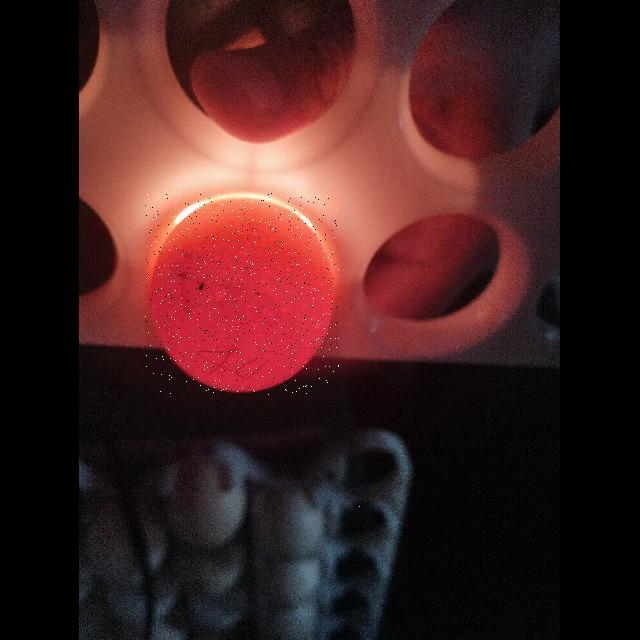A - Good: (145, 193, 339, 395)
